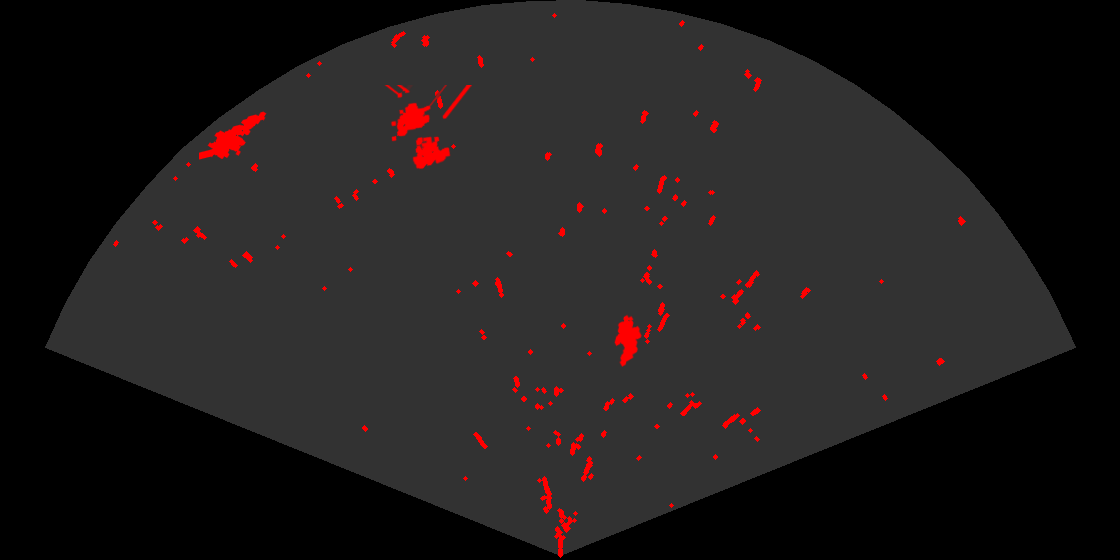AUV: (613, 313, 643, 368)
cage: (383, 85, 472, 171)
frogman: (199, 110, 268, 161)
